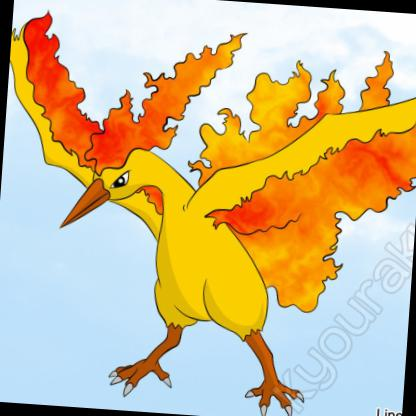Moltres: (1, 1, 414, 416)
